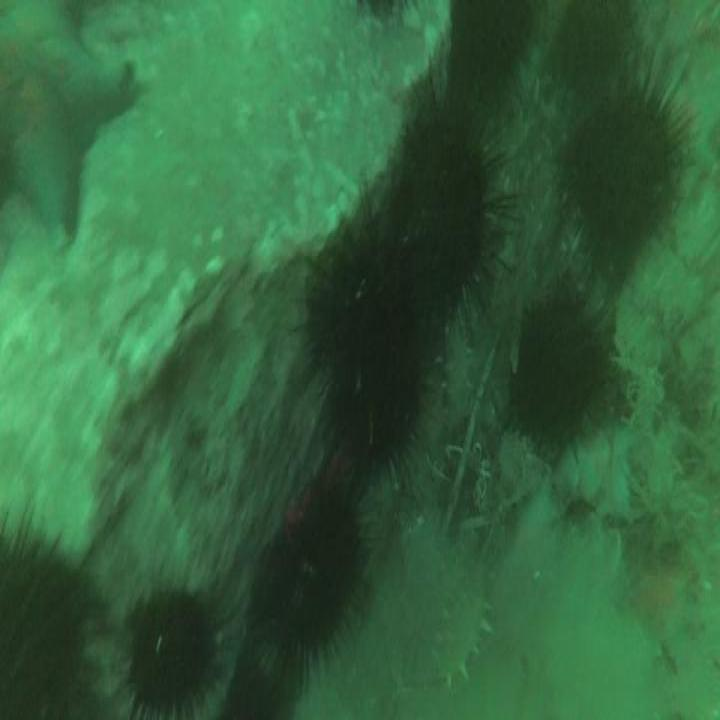echinus: (311, 233, 424, 467), (570, 100, 676, 258), (265, 498, 361, 670), (399, 142, 494, 310), (2, 547, 88, 720), (514, 290, 603, 455), (130, 599, 214, 708), (449, 2, 532, 101)
holothurian: (435, 585, 492, 681)
starfish: (0, 0, 132, 231)
